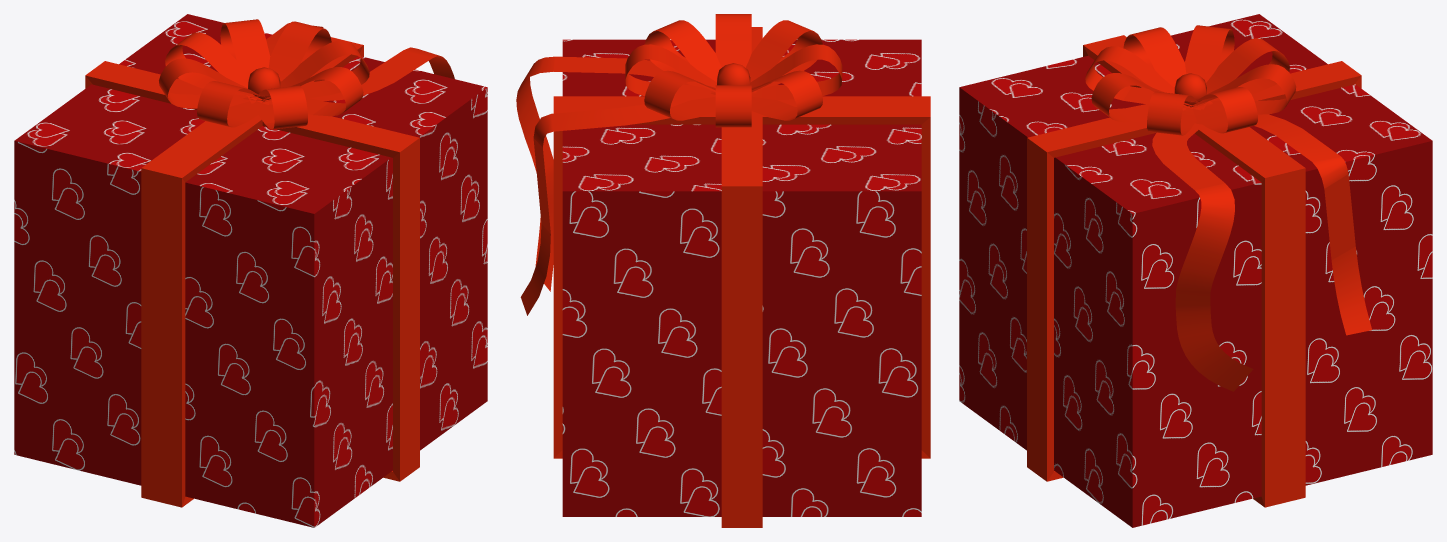
3 renders of one model, left to right at view 1: azimuth 30°, elevation 25°; view 2: azimuth 150°, elevation 25°; view 3: azimuth 270°, elevation 25°, orthographic. The views are drawn at different scales.
Visible parts, largest first — view 1: GiftBox, Cube; view 2: GiftBox, Cube; view 3: GiftBox, Cube.
Boxes of the visible parts, x1=… form: GiftBox: x1=14, y1=14, x2=487, y2=527; Cube: x1=85, y1=19, x2=454, y2=507; GiftBox: x1=562, y1=39, x2=921, y2=516; Cube: x1=516, y1=14, x2=930, y2=527; GiftBox: x1=959, y1=14, x2=1432, y2=527; Cube: x1=1027, y1=25, x2=1371, y2=507.
Bounding box in the file's own units: 5.47 × 5.46 × 4.82.
Materials: 2 (1 with a texture image).
